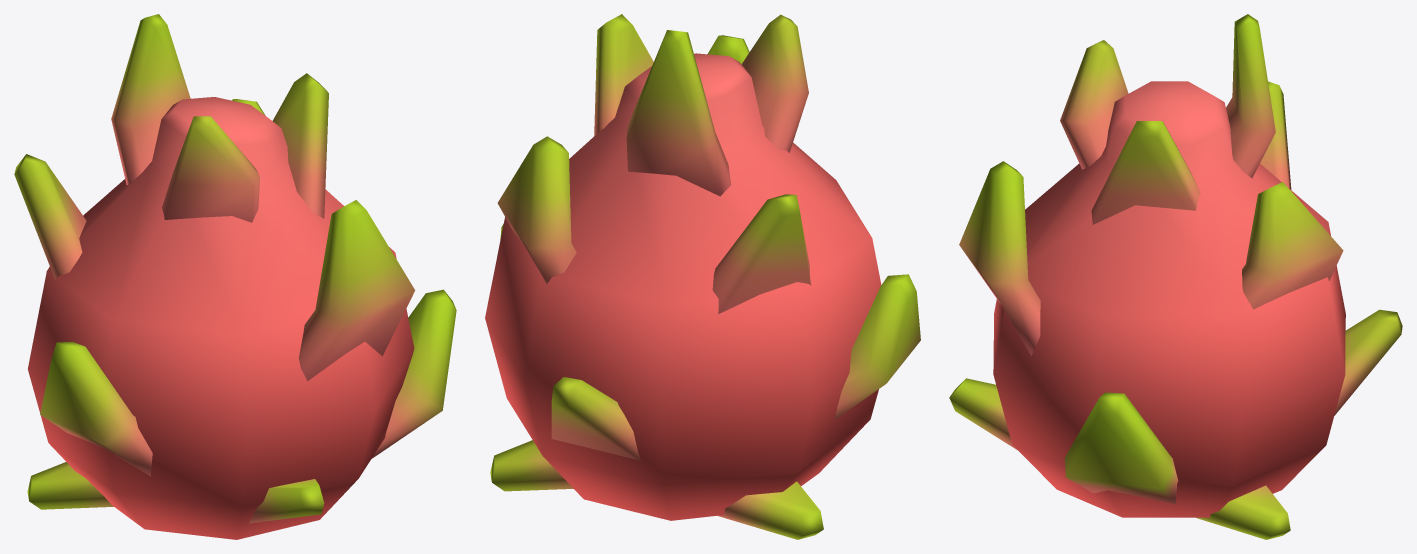
Rendered from Dragonfruit.fbx.
3 views of the same model, side by side, from view 1: azimuth 30°, elevation 25°; view 2: azimuth 150°, elevation 25°; view 3: azimuth 270°, elevation 25° (orthographic). The views are drawn at different scales.
Parts seen in each view (by area): view 1: Dragonfruit; view 2: Dragonfruit; view 3: Dragonfruit.
Boxes of the visible parts, x1,y1,x2,y2 form: Dragonfruit: (14, 14, 456, 539); Dragonfruit: (485, 14, 920, 539); Dragonfruit: (949, 14, 1402, 539).
Size of the model in its own units: 3.71 by 4.27 by 3.79.
